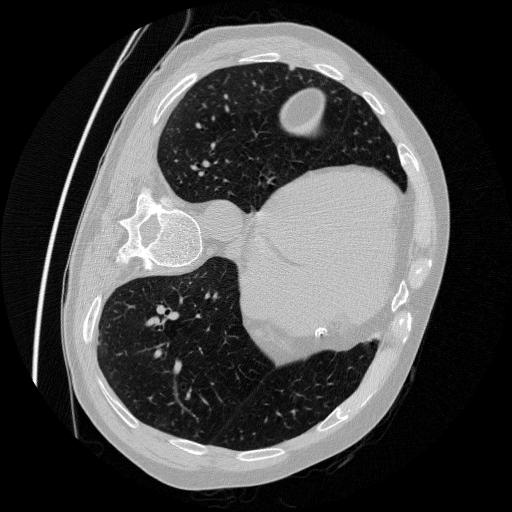nodule: (286, 64, 299, 77)
